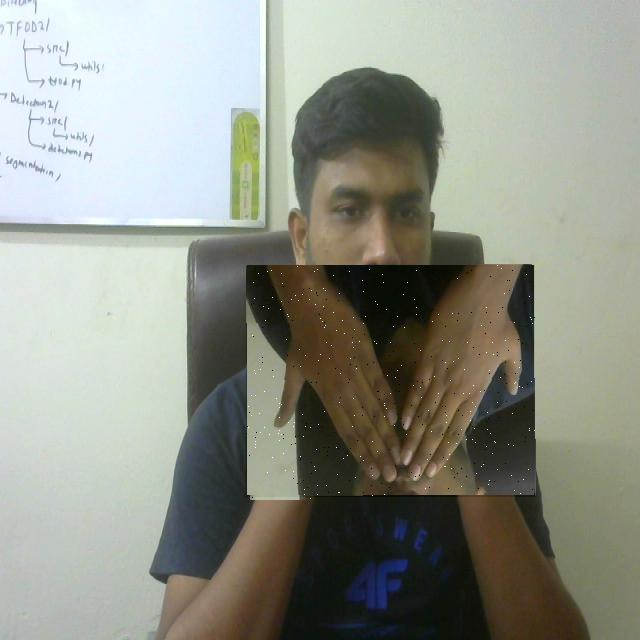Thanks: (246, 266, 535, 500)
